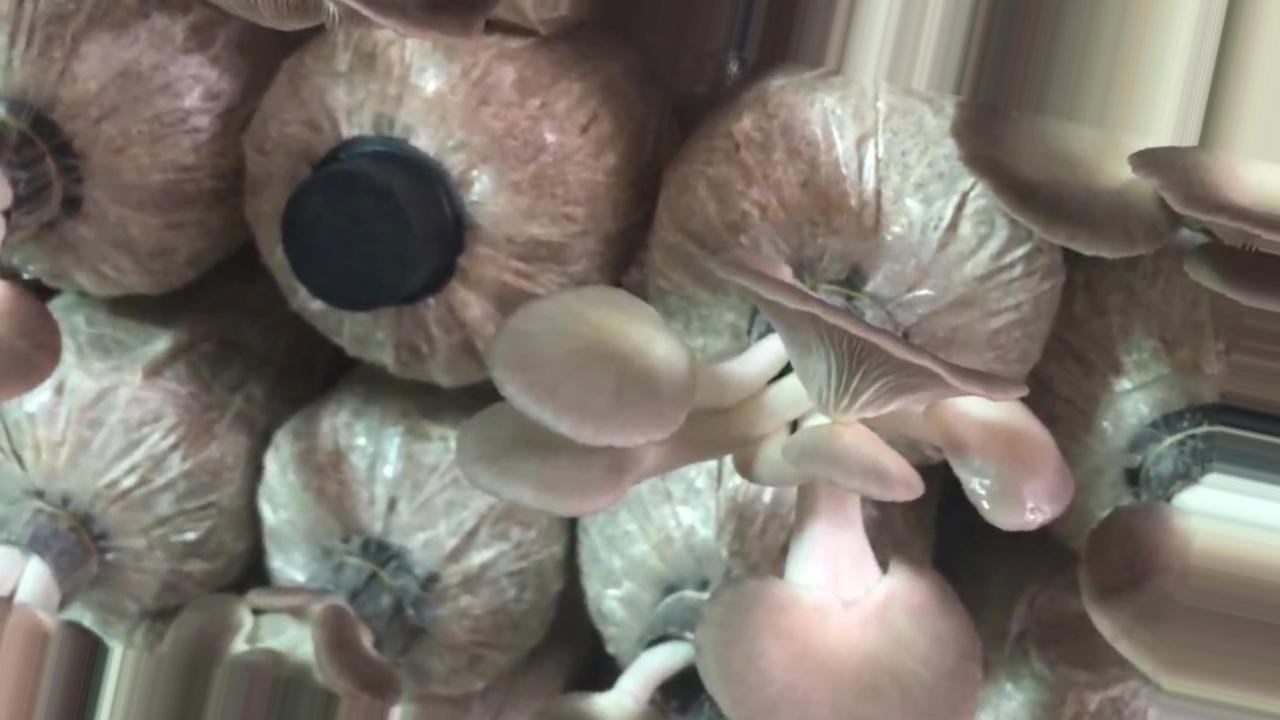nam: (453, 237, 1077, 720), (950, 95, 1280, 310), (1080, 398, 1280, 716)
